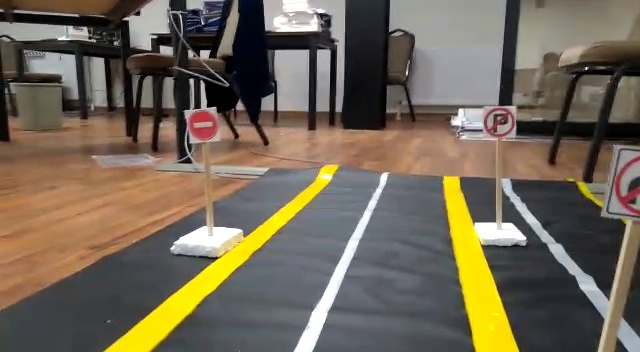girisi_olmayan_yol: (186, 109, 220, 142)
park_yapilmaz: (482, 104, 516, 140)
